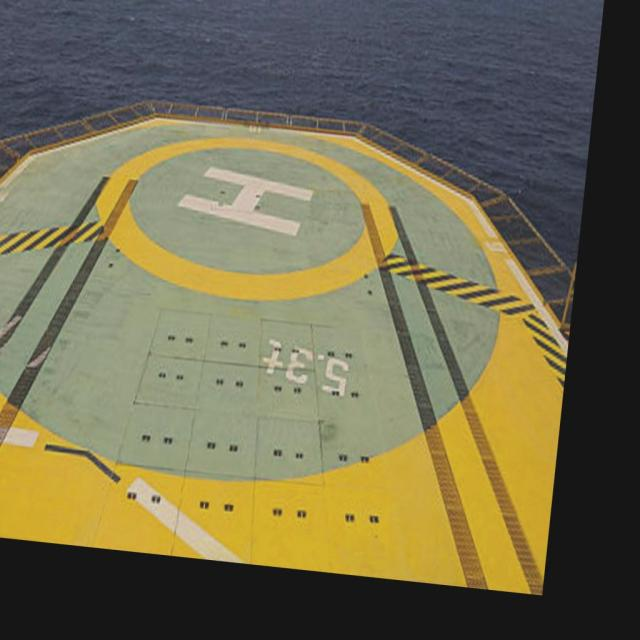helipad: (91, 127, 404, 305)
